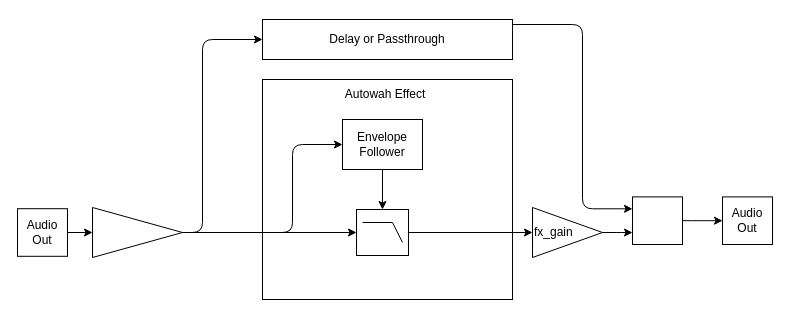
This 790x317 diagram has some shape labels left out. The box of each missing label's shape, as (x1, y1, x2, y2) in pixels:
input_gain: (92, 206, 182, 258)
Mixer: (632, 196, 682, 244)
Variable Fc, Q 2nd Order IIR Lowpass (or Bandpass Filter): (356, 208, 408, 256)
